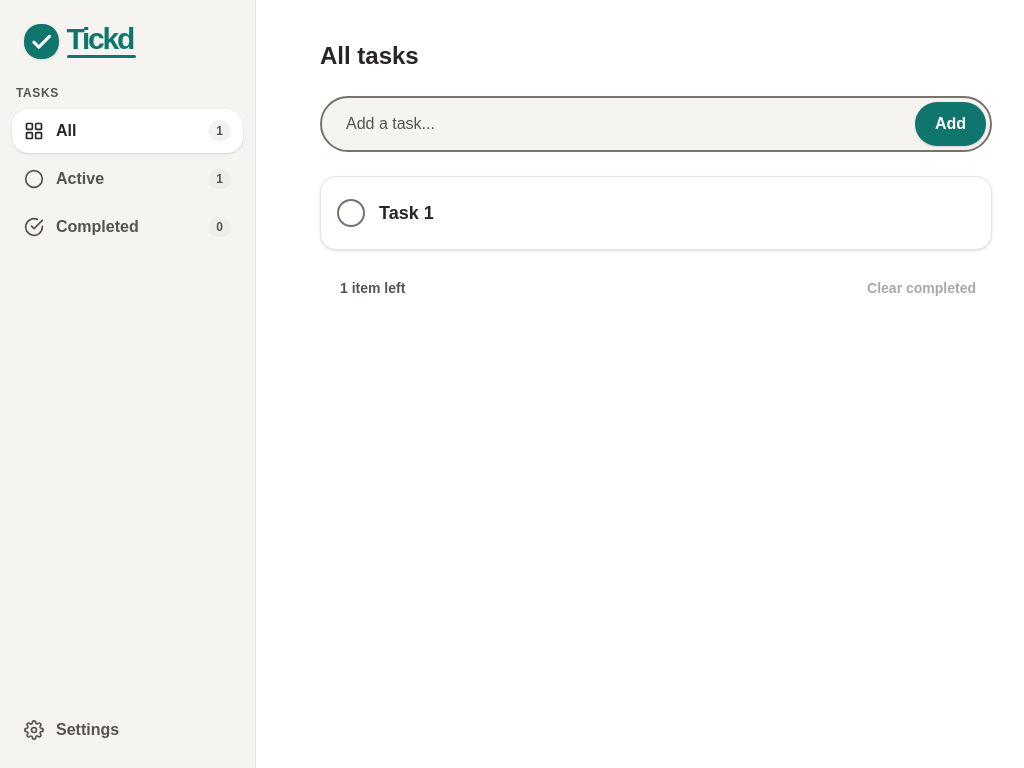
Test case: TaskList title editing › keeps editing and shows an error when Enter is pressed on an empty title
Double-click the button "Task 1" at (406, 213), box [379,191,929,235]
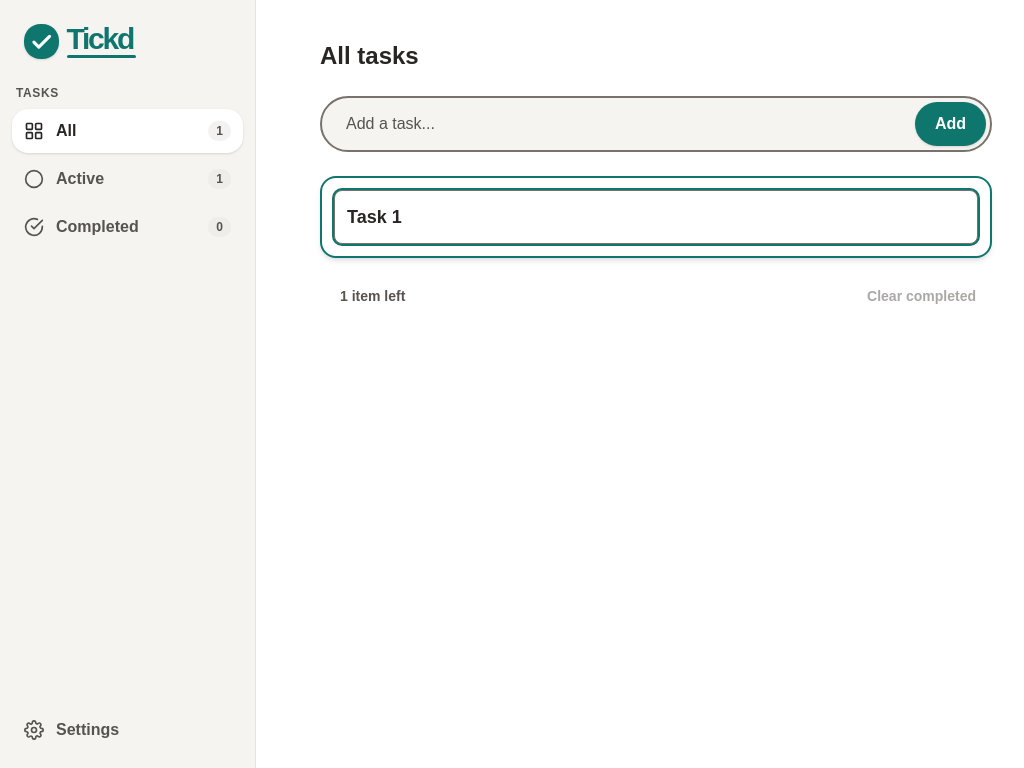
Clear the field named "Edit task" at (656, 217), box [334,190,978,244]
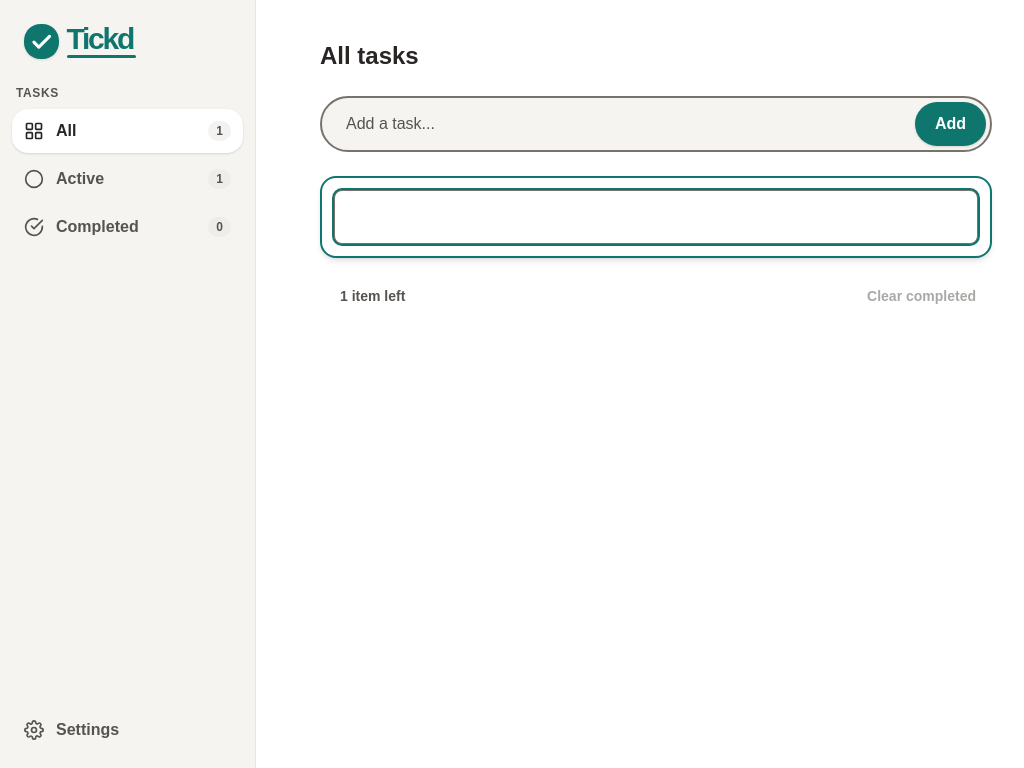
Press Enter
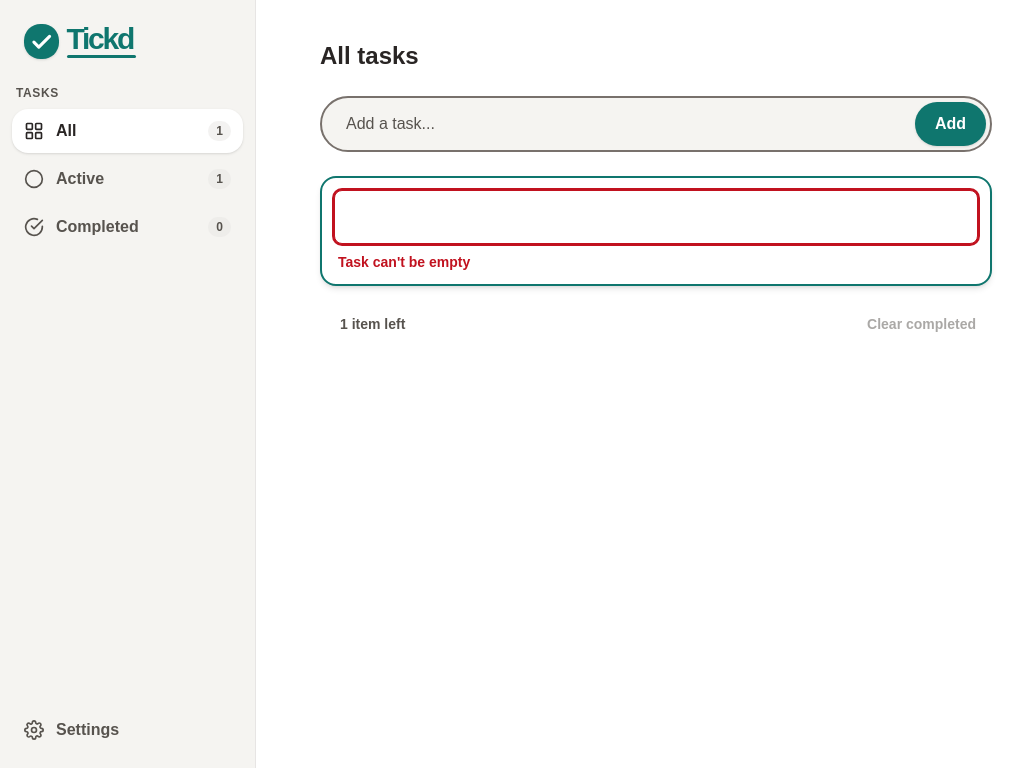
Check: the text "Task can't be empty" is shown, box [338,254,470,270]
